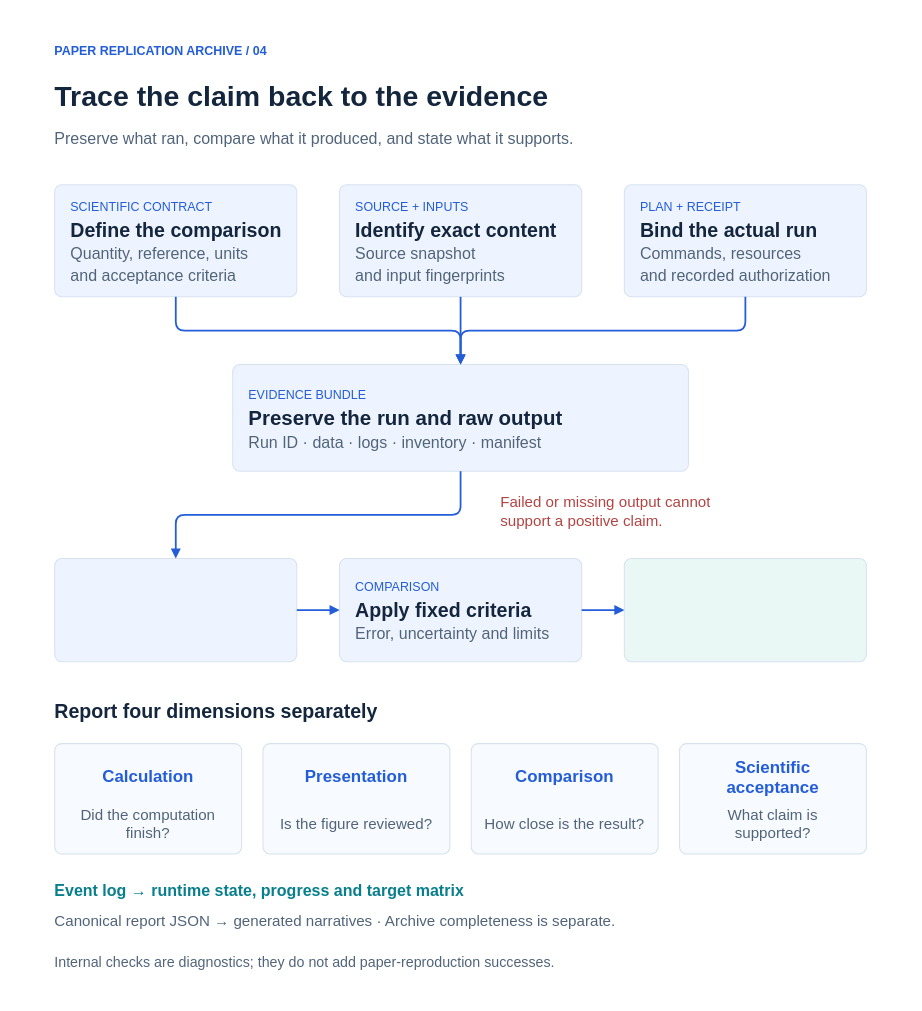
Image size: 922x1011. Some labels were removed from this diagram. The shapes that lost their labels are listed below. From the top down, each one's box as (x1, y1, x2, y2) in pixels, then its label:
(54, 557, 297, 662): OBSERVATION Read actual output Missing output stays missing
(623, 557, 867, 662): INDEPENDENT CRITIC Bound the conclusion Review exact current evidence
